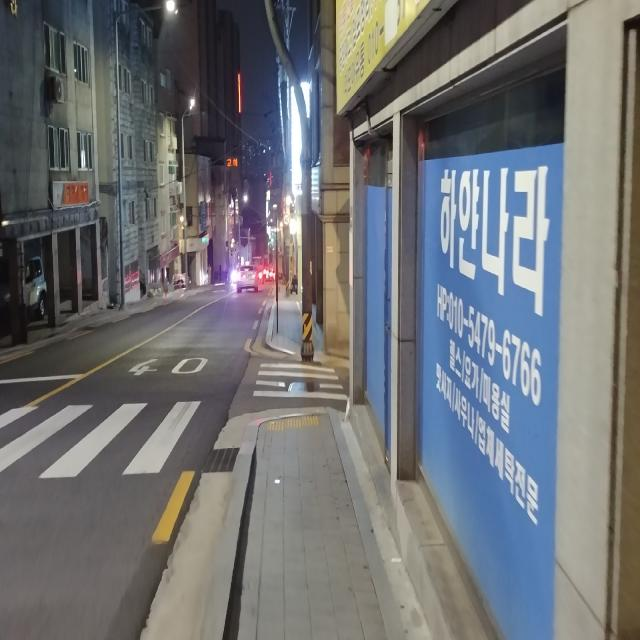횡단보도: (0, 387, 214, 494), (252, 362, 348, 402)
